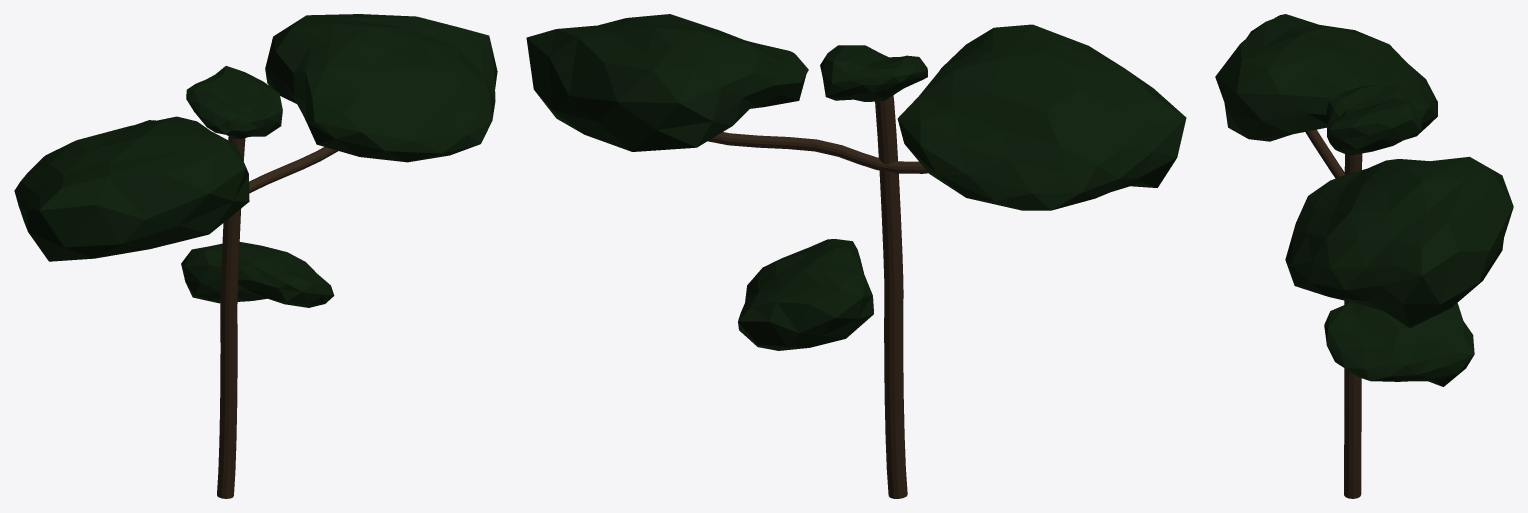
The model's file is SM_light_tree_04.fbx.
The picture shows the model from 3 angles, left to right: view 1: azimuth 30°, elevation 25°; view 2: azimuth 150°, elevation 25°; view 3: azimuth 270°, elevation 25°; orthographic projection. The views are drawn at different scales.
Visible parts, largest first — view 1: light_tree_04; view 2: light_tree_04; view 3: light_tree_04.
Boxes of the visible parts, x1,y1,x2,y2 form: light_tree_04: (14,14,497,498); light_tree_04: (526,14,1186,498); light_tree_04: (1215,14,1513,498).
Size of the model in its own units: 78.67 by 58.15 by 38.55.
